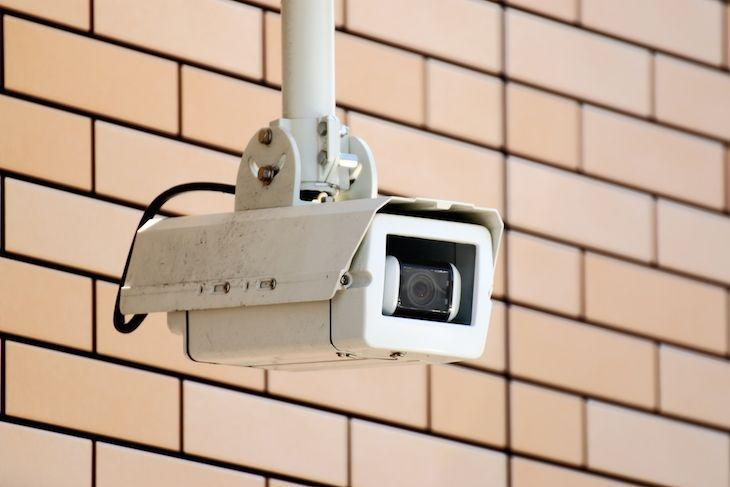tutu: (115, 174, 508, 381)
